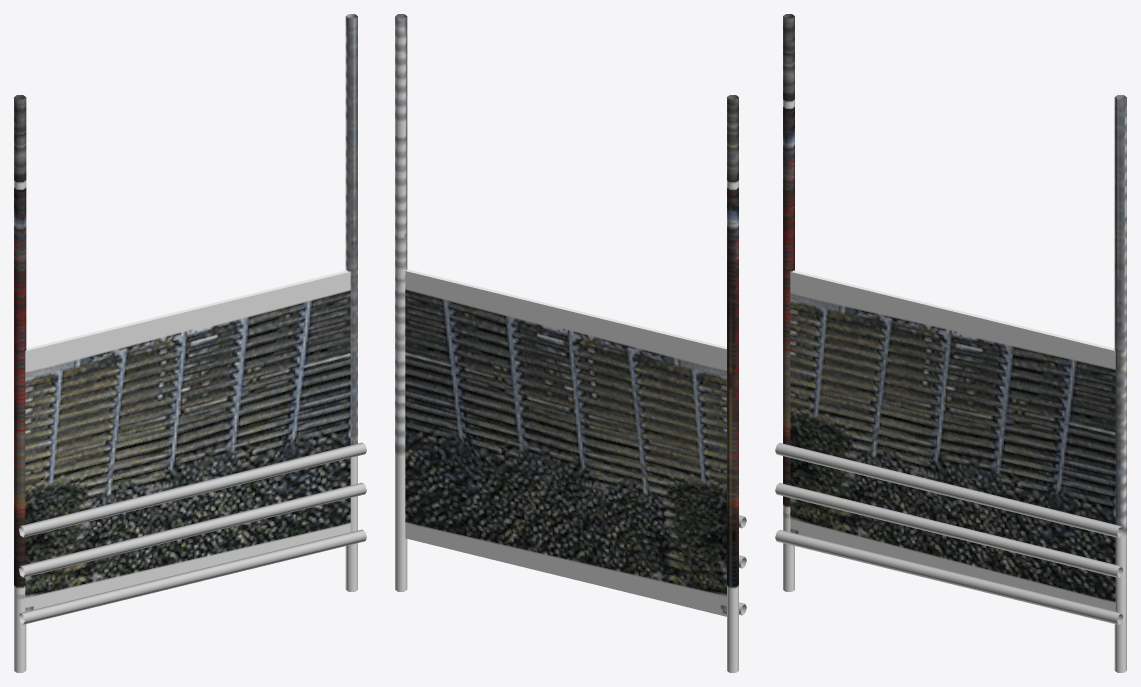
File: Hek.fbx
3 renders of one model, left to right at view 1: azimuth 30°, elevation 25°; view 2: azimuth 150°, elevation 25°; view 3: azimuth 330°, elevation 25°, orthographic.
Parts seen in each view (by area): view 1: Plane.105; view 2: Plane.105; view 3: Plane.105.
Boxes of the visible parts, bbox=[...] form: Plane.105: bbox=[14, 14, 366, 672]; Plane.105: bbox=[395, 14, 746, 672]; Plane.105: bbox=[775, 14, 1126, 672].
Bounding box in the file's own units: 276 × 441 × 17.25.
